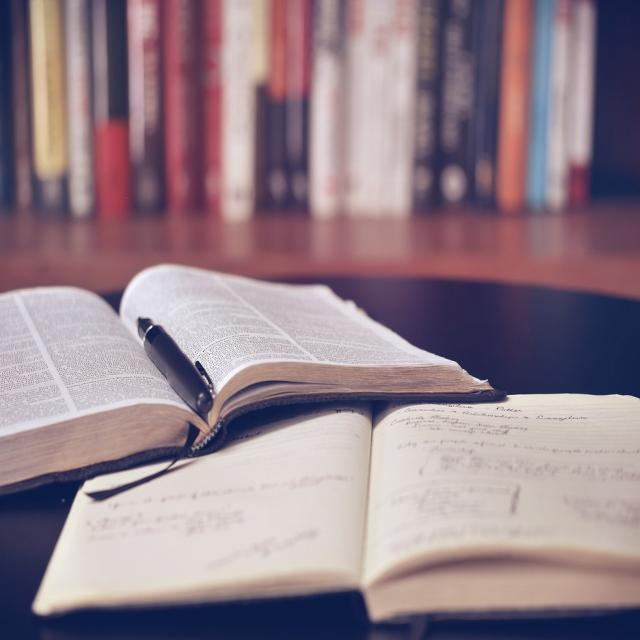notebook: (0, 221, 543, 506)
pen: (117, 294, 225, 433)
